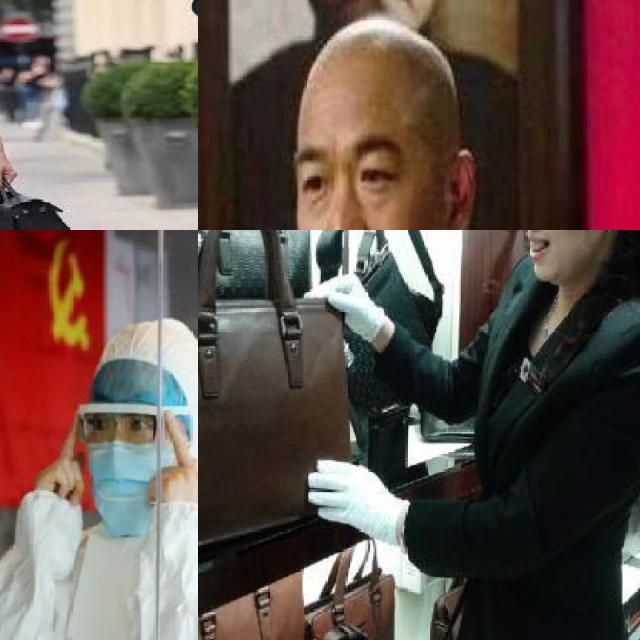No_Ear-Protection: (442, 138, 480, 230)
No_Glasses: (283, 131, 420, 214)
face_mask: (84, 409, 170, 546)
face_nomask: (276, 91, 453, 230), (499, 230, 590, 272)
glasses: (70, 399, 170, 457)
hand_glove: (306, 450, 400, 554), (301, 268, 387, 348)
hand_noglove: (34, 411, 92, 512), (147, 409, 198, 512), (0, 153, 18, 191)
head_nohelmet: (277, 8, 463, 122)
person: (198, 20, 602, 230), (0, 0, 98, 230)
